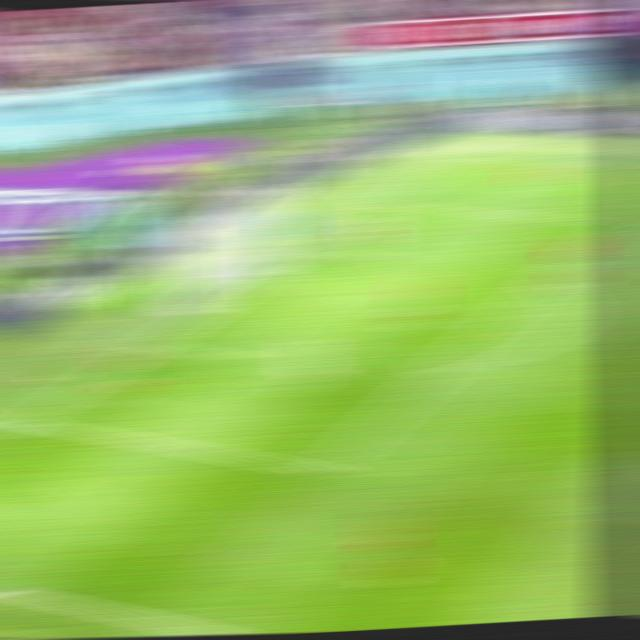bigarea_bottom_inner: (301, 456, 345, 483)
bigarea_bottom_outter: (5, 411, 46, 432)
bigarea_top_inner: (599, 210, 640, 231)
bigarea_top_outter: (367, 195, 407, 212)
bottom_arc_area_intersection: (419, 356, 463, 381)
corner: (447, 148, 487, 163)
smallarea_bottom_inner: (214, 342, 259, 368)
smallarea_bottom_outter: (132, 334, 173, 352)
smallarea_top_inner: (363, 247, 405, 268)
smallarea_top_outter: (290, 240, 332, 257)
top_arc_area_intersection: (526, 271, 569, 293)
